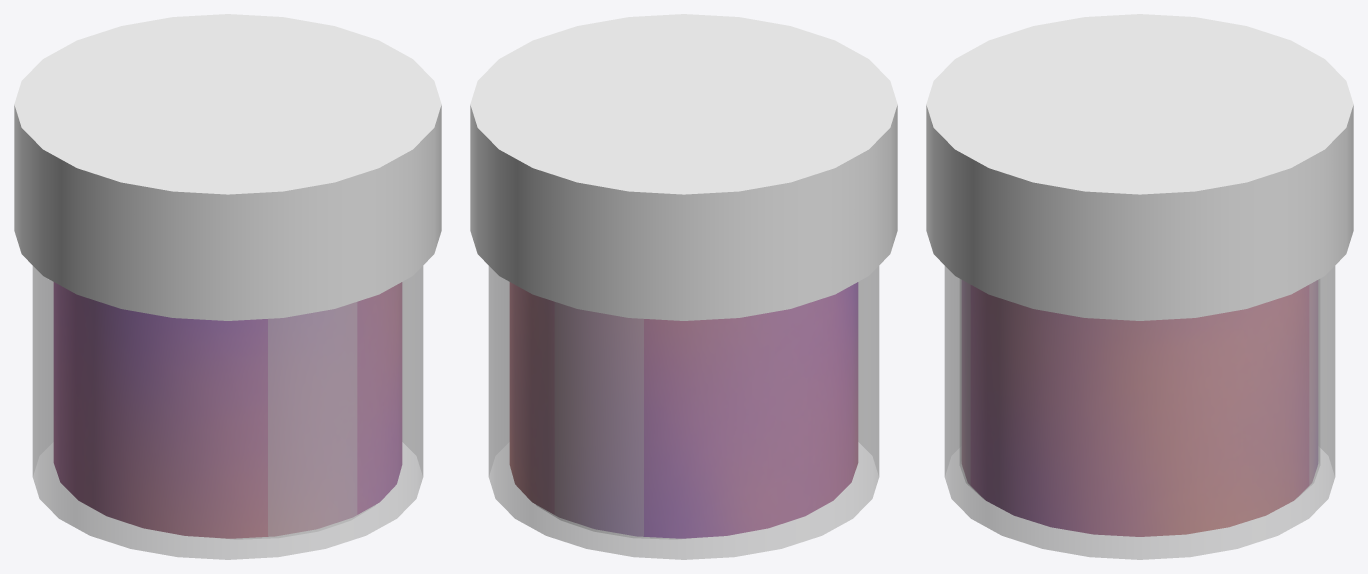
File: glitter.fbx
The picture shows the model from 3 angles, left to right: view 1: azimuth 30°, elevation 25°; view 2: azimuth 150°, elevation 25°; view 3: azimuth 270°, elevation 25°; orthographic projection.
Visible parts, largest first — view 1: Tampa, Pote, Glitter; view 2: Tampa, Pote, Glitter; view 3: Tampa, Pote, Glitter.
Boxes of the visible parts, left/top/right/bottom form: Tampa: left=14, top=14, right=441, bottom=320; Pote: left=32, top=266, right=423, bottom=559; Glitter: left=53, top=282, right=402, bottom=538; Tampa: left=470, top=14, right=897, bottom=320; Pote: left=488, top=266, right=879, bottom=559; Glitter: left=509, top=282, right=858, bottom=538; Tampa: left=926, top=14, right=1353, bottom=320; Pote: left=944, top=266, right=1335, bottom=559; Glitter: left=962, top=280, right=1317, bottom=536.
Size of the model in its own units: 41.37 by 39.87 by 41.37.
